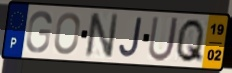G: (24, 10, 53, 55)
J: (117, 17, 144, 59)
N: (84, 12, 121, 60)
O: (53, 11, 82, 56)
Q: (173, 17, 206, 65)
U: (146, 15, 181, 64)
